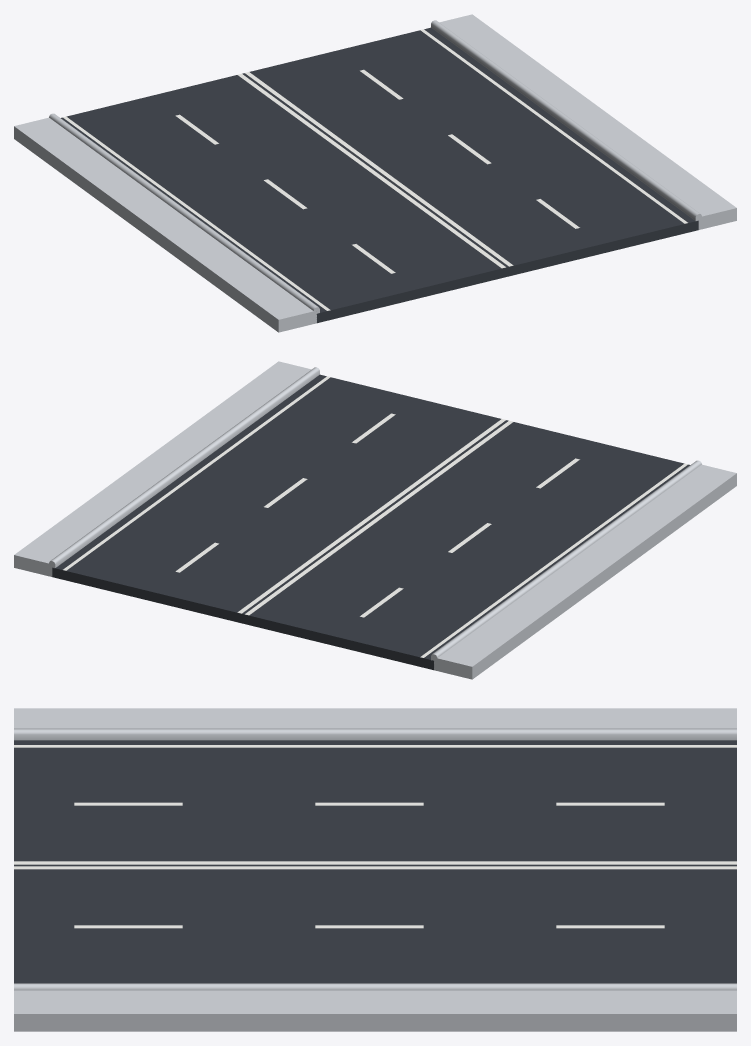
Rendered from avenida_reta.glb.
The picture shows the model from 3 angles, top to bottom: view 1: azimuth 30°, elevation 25°; view 2: azimuth 150°, elevation 25°; view 3: azimuth 270°, elevation 25°; orthographic projection. The views are drawn at different scales.
Parts seen in each view (by area): view 1: avenida_reta; view 2: avenida_reta; view 3: avenida_reta.
Boxes of the visible parts, x1,y1,x2,y2 form: avenida_reta: (14, 14, 736, 332); avenida_reta: (14, 361, 736, 679); avenida_reta: (14, 708, 736, 1031).
Size of the model in its own units: 15 by 0.5 by 15.
Materials: 1 (1 with a texture image).
